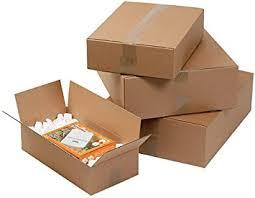Cardboard: (8, 82, 137, 186), (78, 0, 226, 81), (98, 45, 252, 116), (136, 95, 247, 175)
